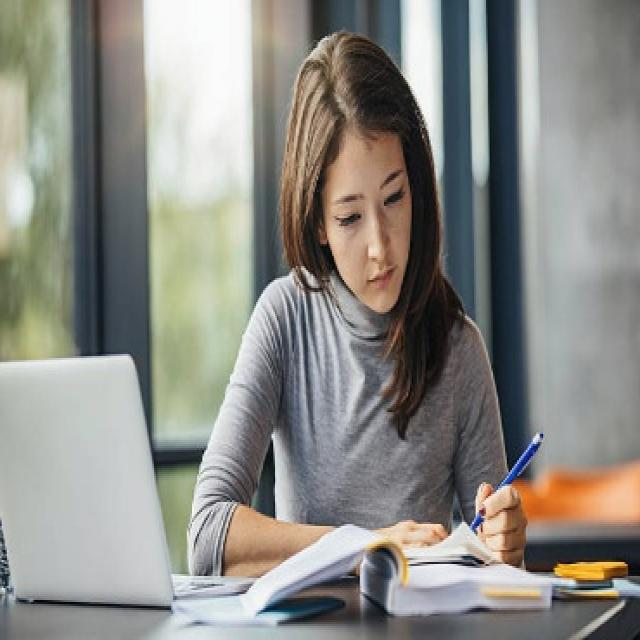adult: (186, 23, 534, 581)
